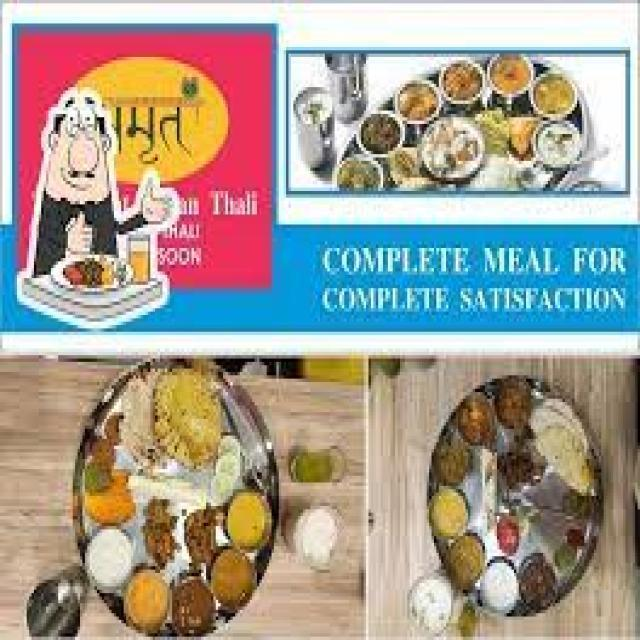curd: (536, 124, 583, 168)
dal: (529, 403, 597, 494), (223, 486, 277, 550), (120, 566, 173, 630), (424, 486, 472, 540)
raita: (85, 529, 133, 589), (535, 125, 586, 168)
roti: (115, 368, 226, 474)
sambar-rasam: (201, 545, 268, 612), (485, 55, 534, 97)
sweet: (485, 507, 530, 560)
veg-fry: (453, 392, 497, 449)
